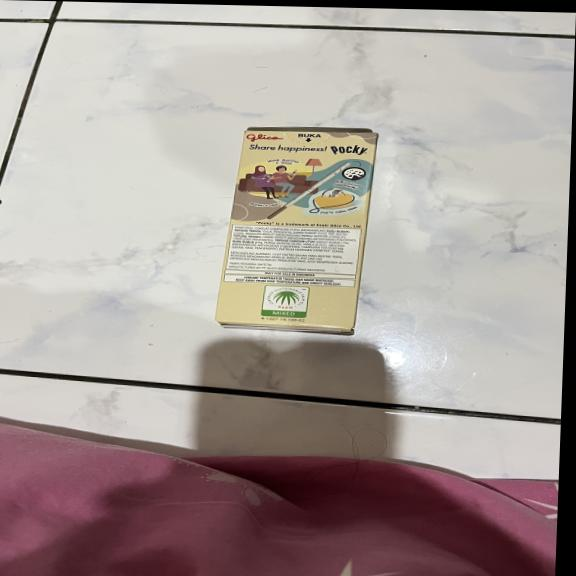Kertas: (216, 124, 372, 337)
